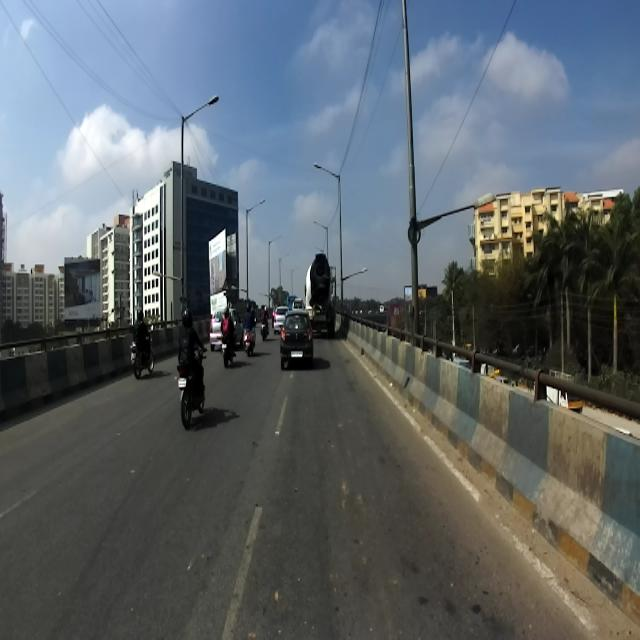car ahead at: (278, 306, 320, 372)
motorcycle ahead at: (177, 357, 210, 422)
